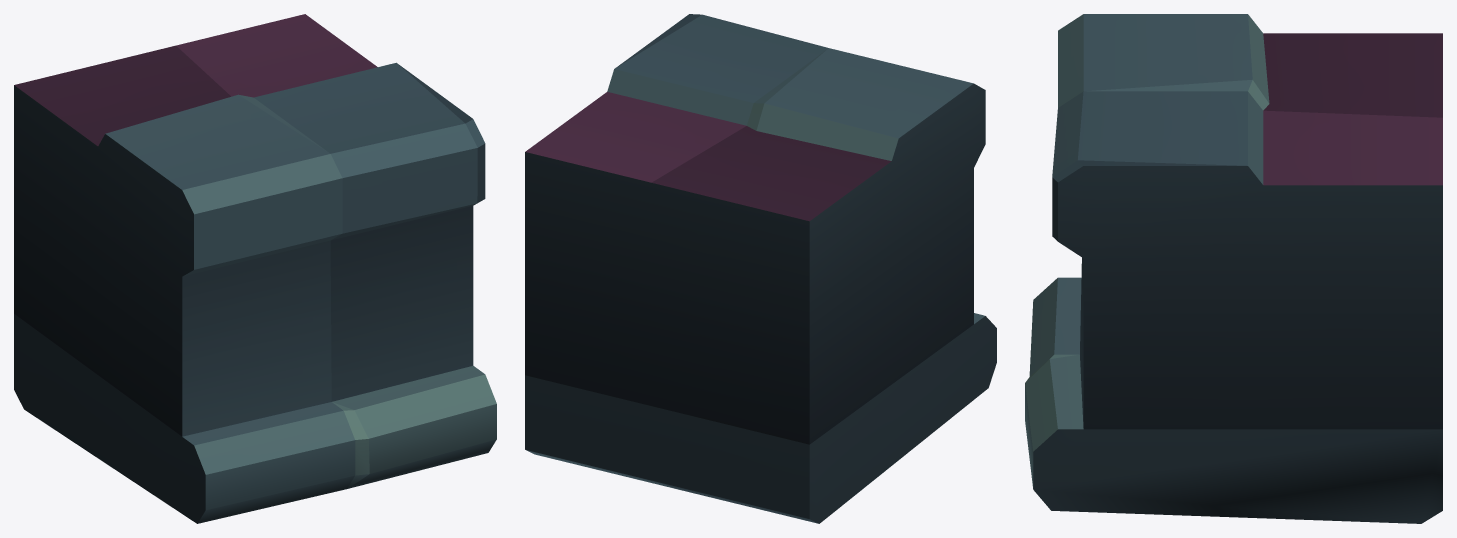
Rendered from wall_small_1.fbx.
The picture shows the model from 3 angles, left to right: view 1: azimuth 30°, elevation 25°; view 2: azimuth 150°, elevation 25°; view 3: azimuth 270°, elevation 25°; orthographic projection. The views are drawn at different scales.
Visible parts, largest first — view 1: wall_small_1; view 2: wall_small_1; view 3: wall_small_1.
Part boxes in pixels (box(x1,y1,x2,y2)): wall_small_1: box(14, 14, 496, 523); wall_small_1: box(525, 14, 996, 523); wall_small_1: box(1025, 14, 1442, 523).
Bounding box in the file's own units: 100 × 111 × 116.
